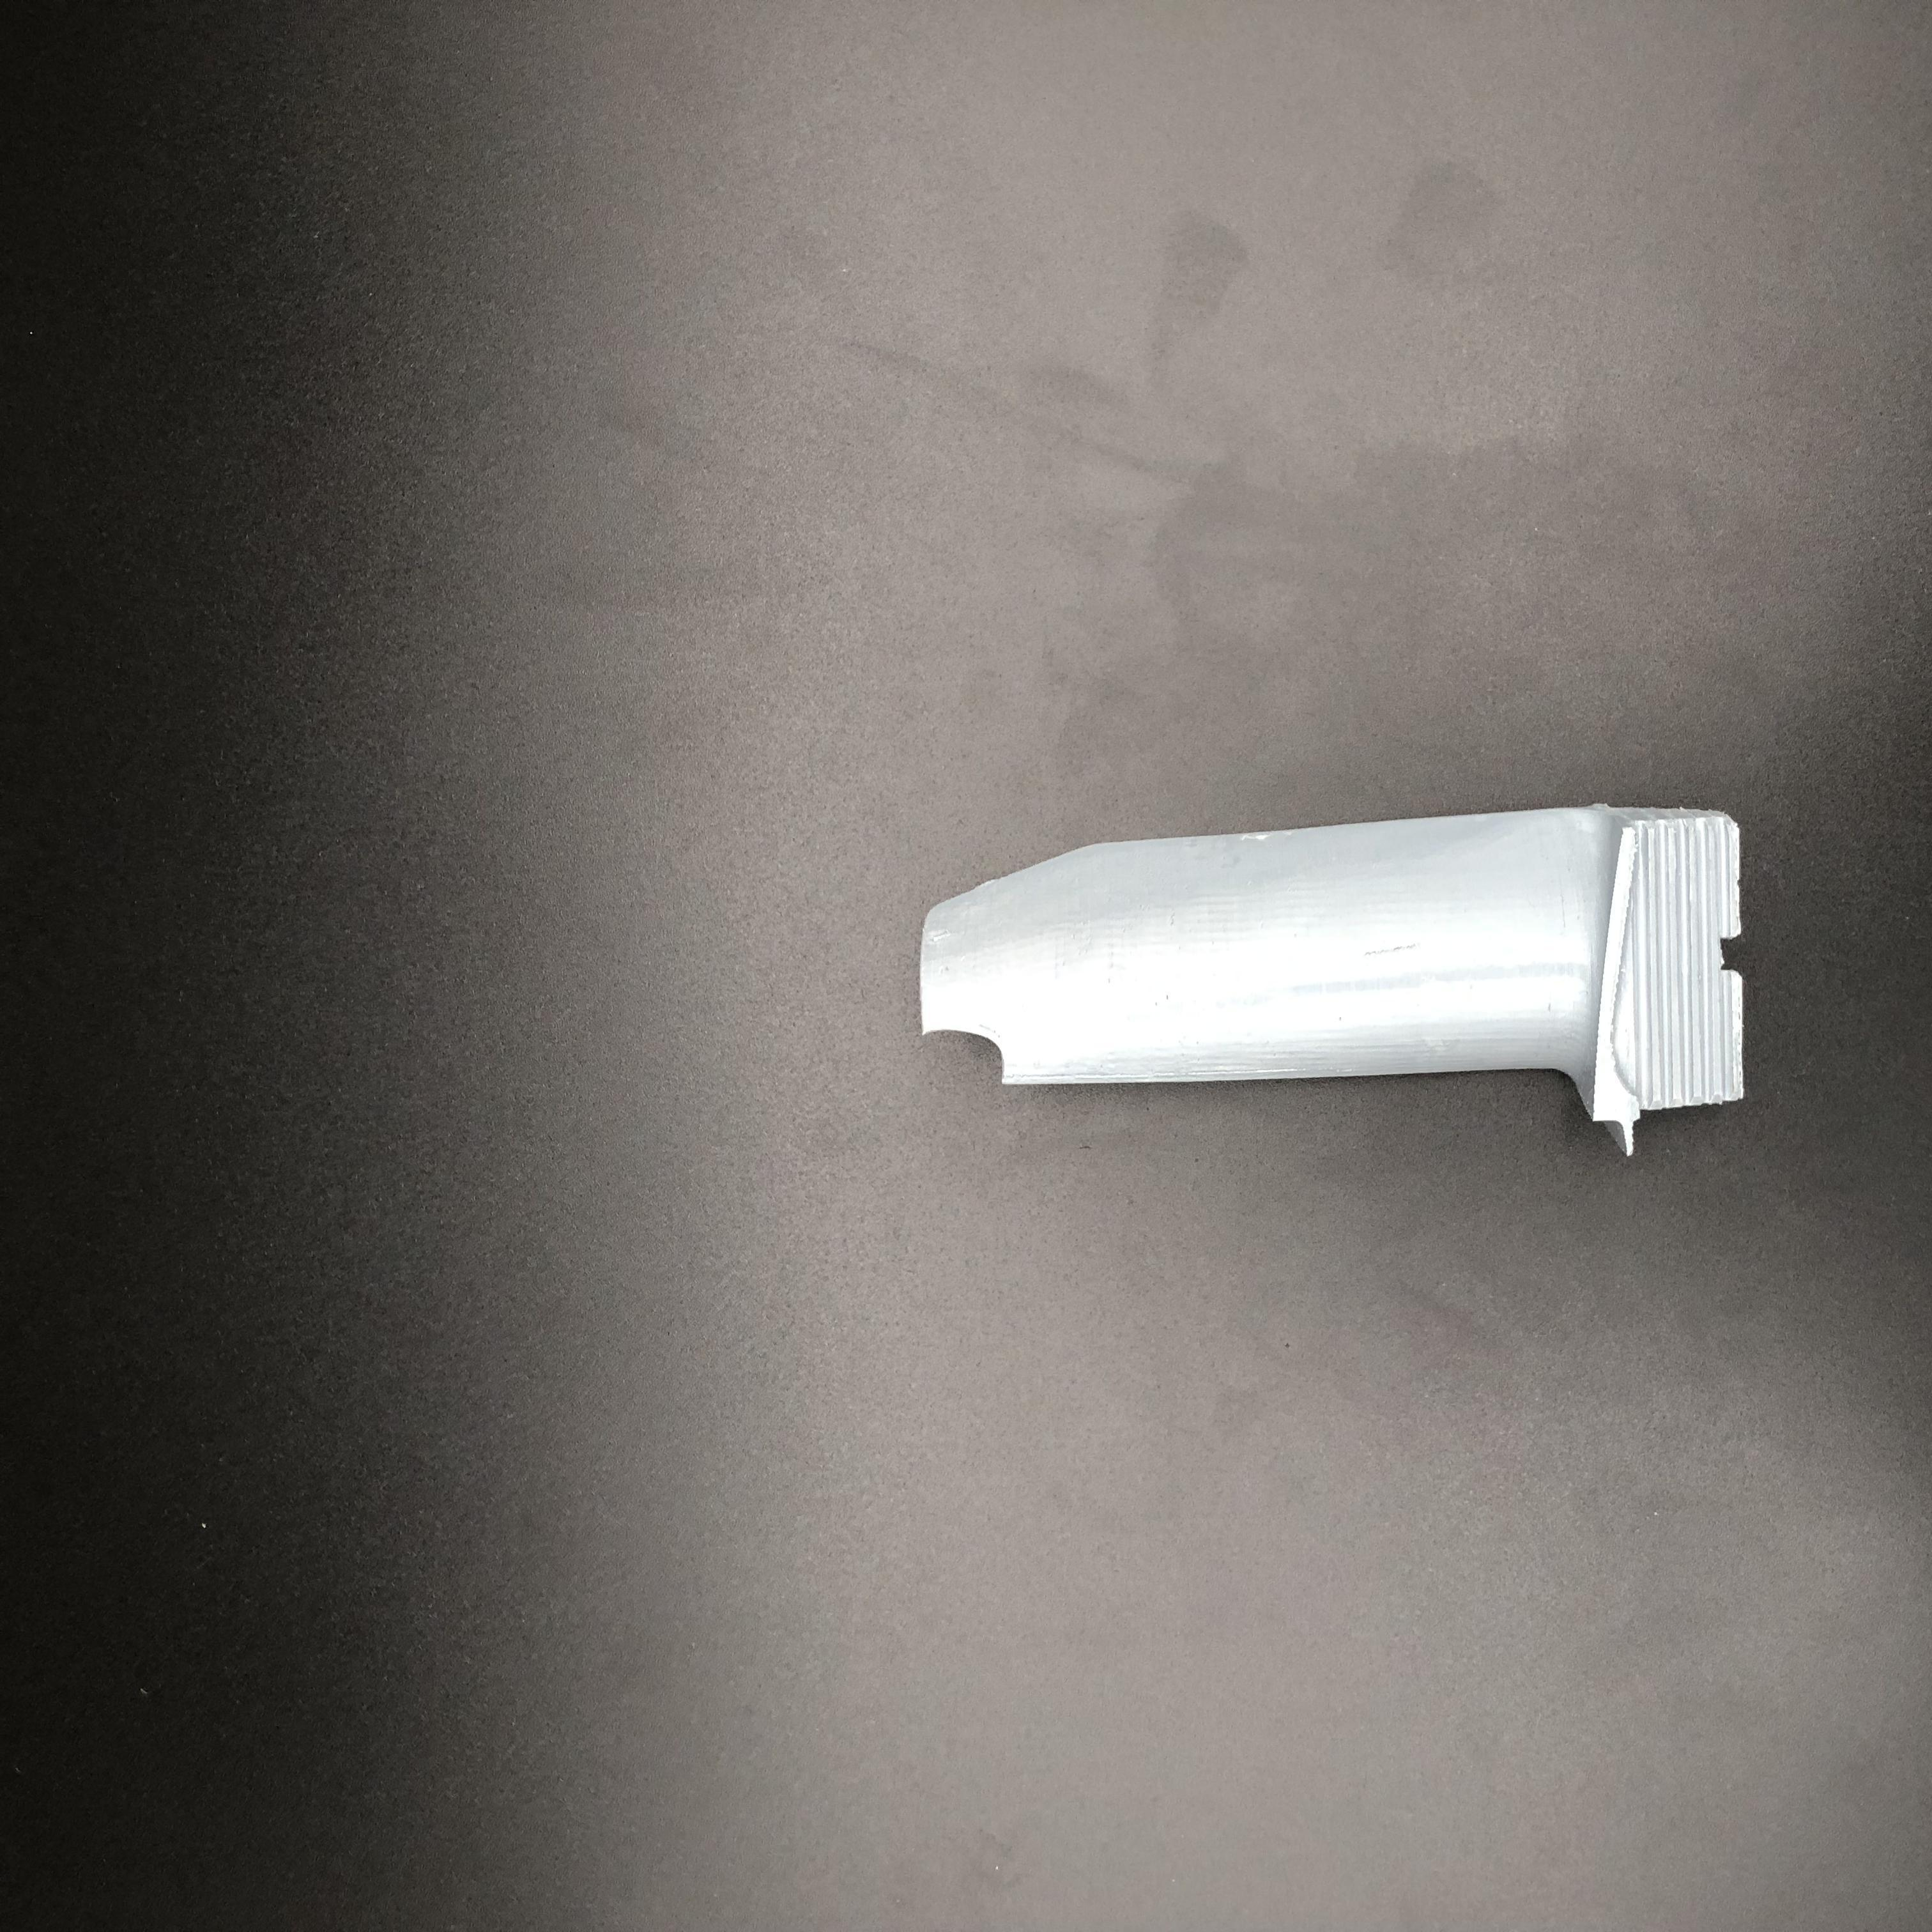fracture: (920, 1003, 1035, 1093)
